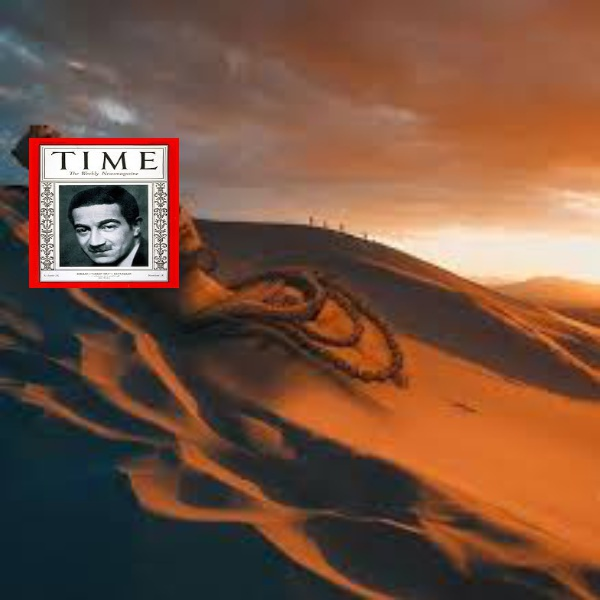time_cover: (25, 130, 179, 289)
